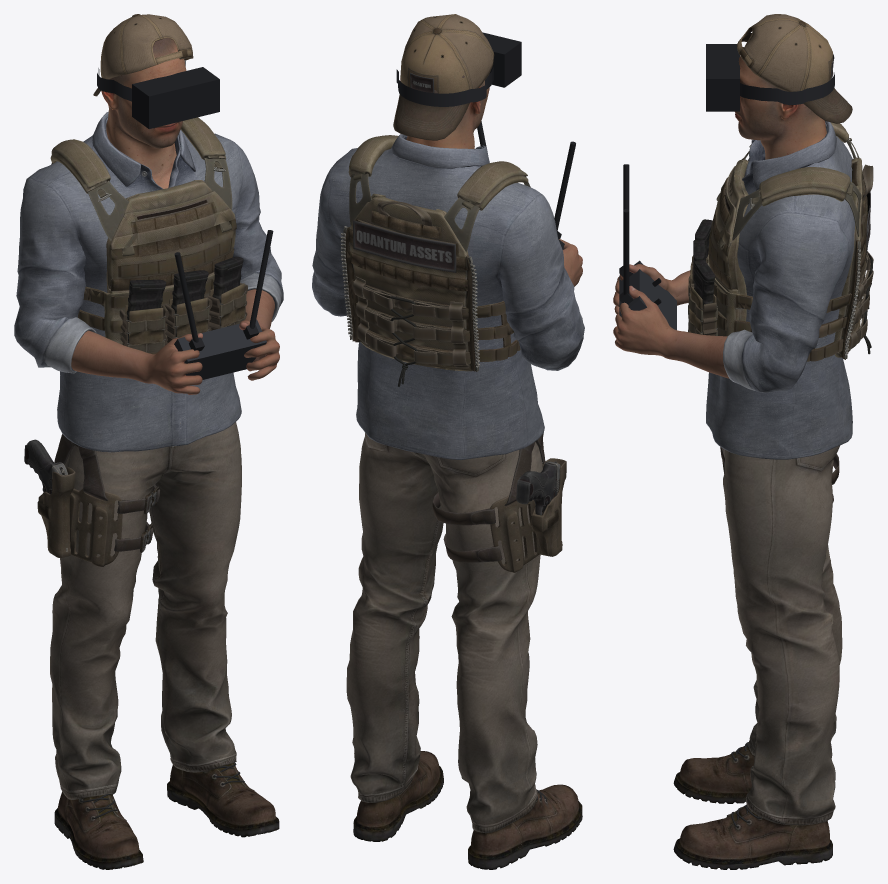
File: operator.glb
3 views of the same model, side by side, from view 1: azimuth 30°, elevation 25°; view 2: azimuth 150°, elevation 25°; view 3: azimuth 270°, elevation 25° (orthographic).
Parts seen in each view (by area): view 1: M_Jeans, M_Shirt_RolledUp, M_Bulletproof_Light, M_Holster_Hard, M_Drops_Tactical, M_Quantum_Arms, M_Head, goggles, M_Cap, radio, antennas, M_Pistol; view 2: M_Jeans, M_Shirt_RolledUp, M_Bulletproof_Light, M_Cap, M_Holster_Hard, M_Patches, M_Pistol, M_Head, goggles, strap, antennas, M_Quantum_Arms; view 3: M_Jeans, M_Shirt_RolledUp, M_Bulletproof_Light, M_Cap, M_Quantum_Arms, M_Head, M_Drops_Tactical, goggles, radio, strap, antennas.
Boxes of the visible parts, x1,y1,x2,y2 form: M_Jeans: (50,422,279,869); M_Shirt_RolledUp: (14,112,283,452); M_Bulletproof_Light: (50,117,236,344); M_Holster_Hard: (37,434,160,567); M_Drops_Tactical: (119,256,247,354); M_Quantum_Arms: (71,289,279,394); M_Head: (101,37,186,188); goggles: (132,67,219,128); M_Cap: (93,14,193,96); radio: (174,319,266,379); antennas: (174,230,273,351); M_Pistol: (24,439,67,551); M_Jeans: (346,433,582,869); M_Shirt_RolledUp: (312,134,584,459); M_Bulletproof_Light: (340,135,530,386); M_Cap: (393,14,494,140); M_Holster_Hard: (432,433,566,572); M_Patches: (353,72,456,272); M_Pistol: (516,461,560,515); M_Head: (400,75,489,149); goggles: (482,32,521,87); strap: (396,67,493,106); antennas: (477,121,575,239); M_Quantum_Arms: (559,239,582,286); M_Jeans: (673,445,842,869); M_Shirt_RolledUp: (706,121,855,459); M_Bulletproof_Light: (707,122,873,361); M_Cap: (737,14,852,123); M_Quantum_Arms: (613,264,729,378); M_Head: (735,56,830,159); M_Drops_Tactical: (688,219,717,335); goggles: (706,44,739,111); radio: (619,260,676,329); strap: (740,72,834,105); antennas: (619,164,633,304).
Bounding box in the file's own units: 0.6192 × 1.84 × 0.5376.
15 materials, 10 textured.
